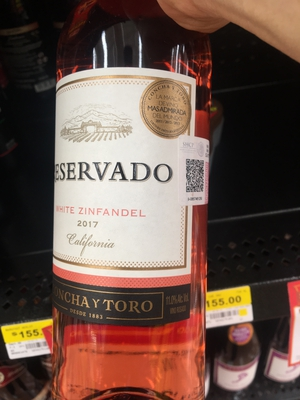reservado white zinfandel: (49, 18, 213, 400)
